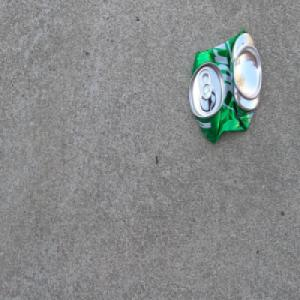SodaCan: (188, 28, 263, 146)
